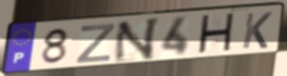4: (158, 14, 192, 59)
8: (39, 27, 70, 66)
H: (195, 11, 237, 57)
K: (240, 11, 274, 51)
N: (111, 16, 162, 65)
Z: (73, 22, 117, 65)
